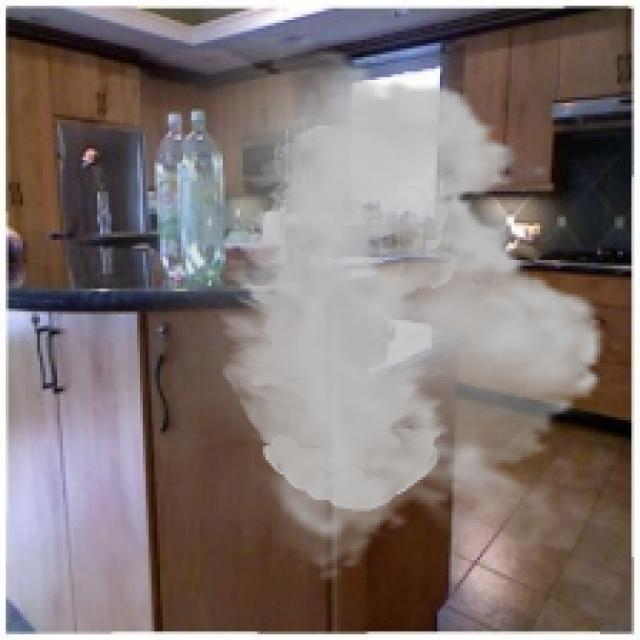Smoke: (63, 37, 626, 583)
